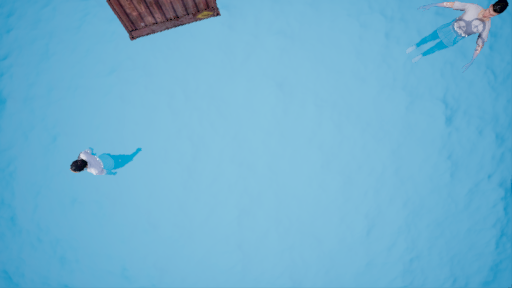person: (411, 1, 510, 71), (71, 139, 146, 180)
